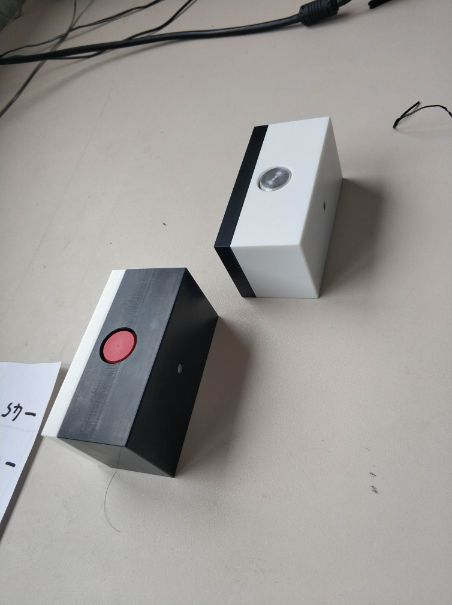black+white+silver: (211, 115, 347, 300)
white+black+red: (39, 266, 221, 479)
